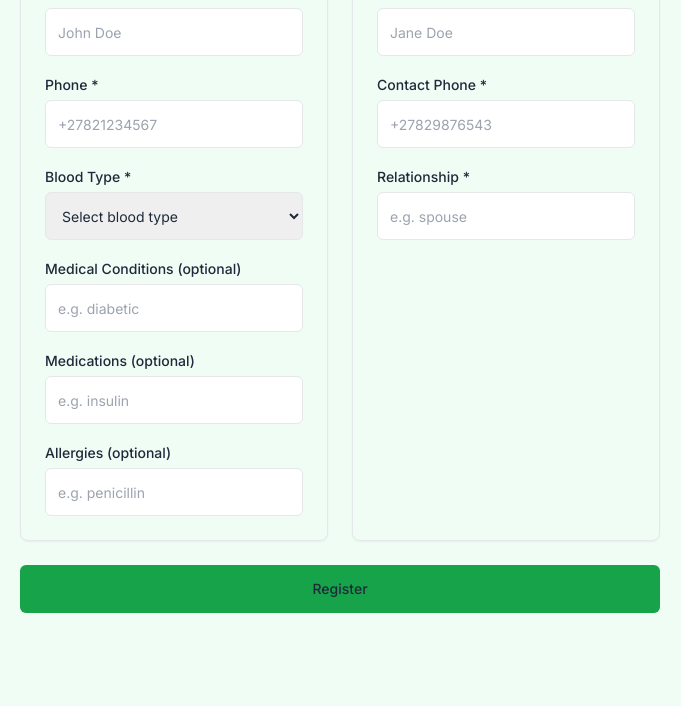
Test: HikerRegistration › shows validation errors for empty required fields
(page scrolled)
Click the button "Register" at x=340, y=589, box [20, 565, 660, 613]
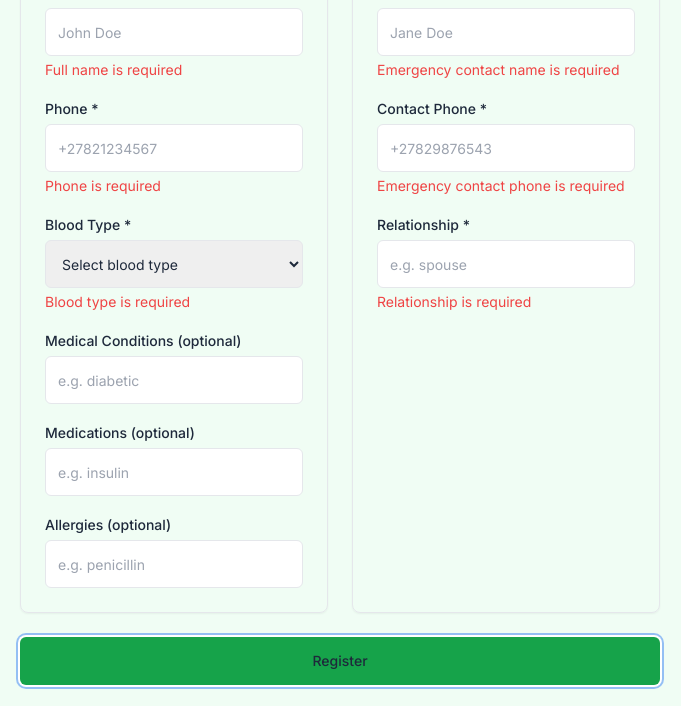
Expected: the message "Full name is required" is shown, [45, 61, 182, 78]
